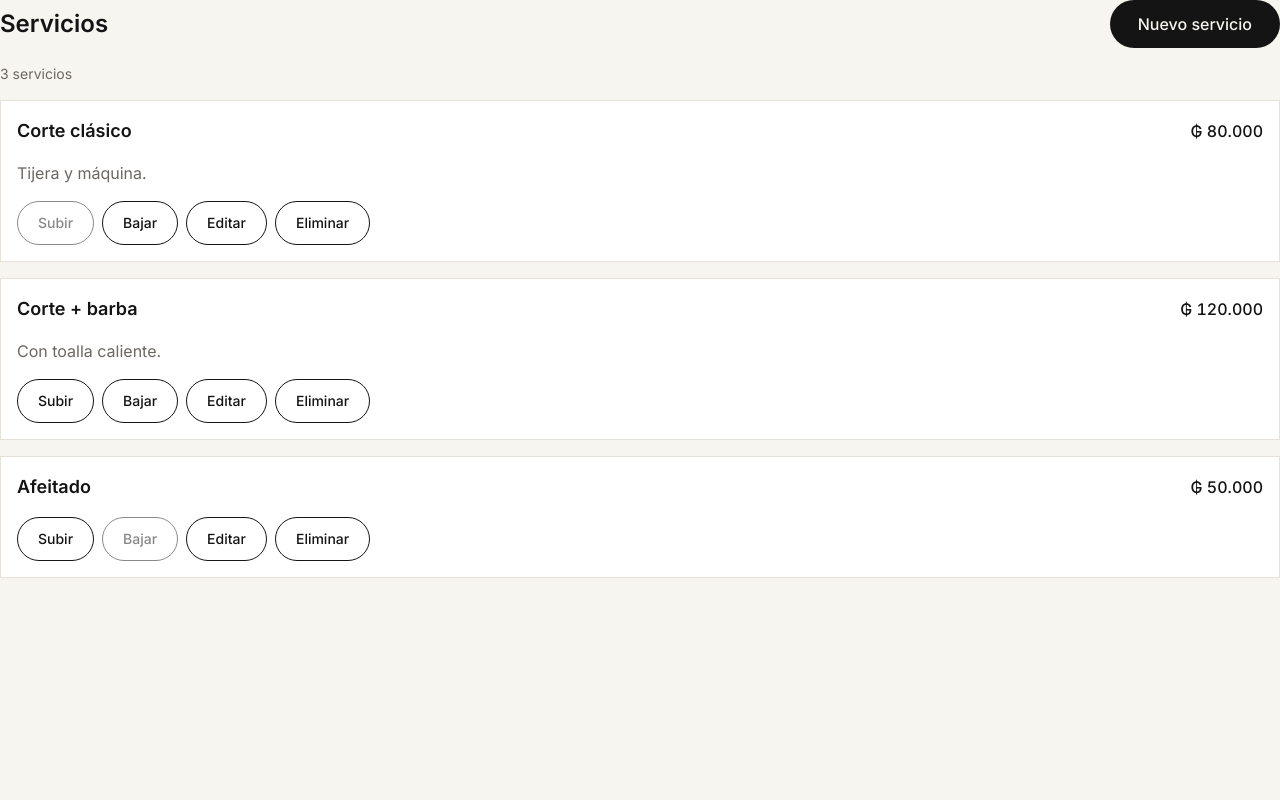
Test: región de estado › borrar escribe Servicio eliminado
Click the button with aria-label "Eliminar Afeitado".
click(323, 539)  # box x1=275 y1=517 x2=370 y2=561
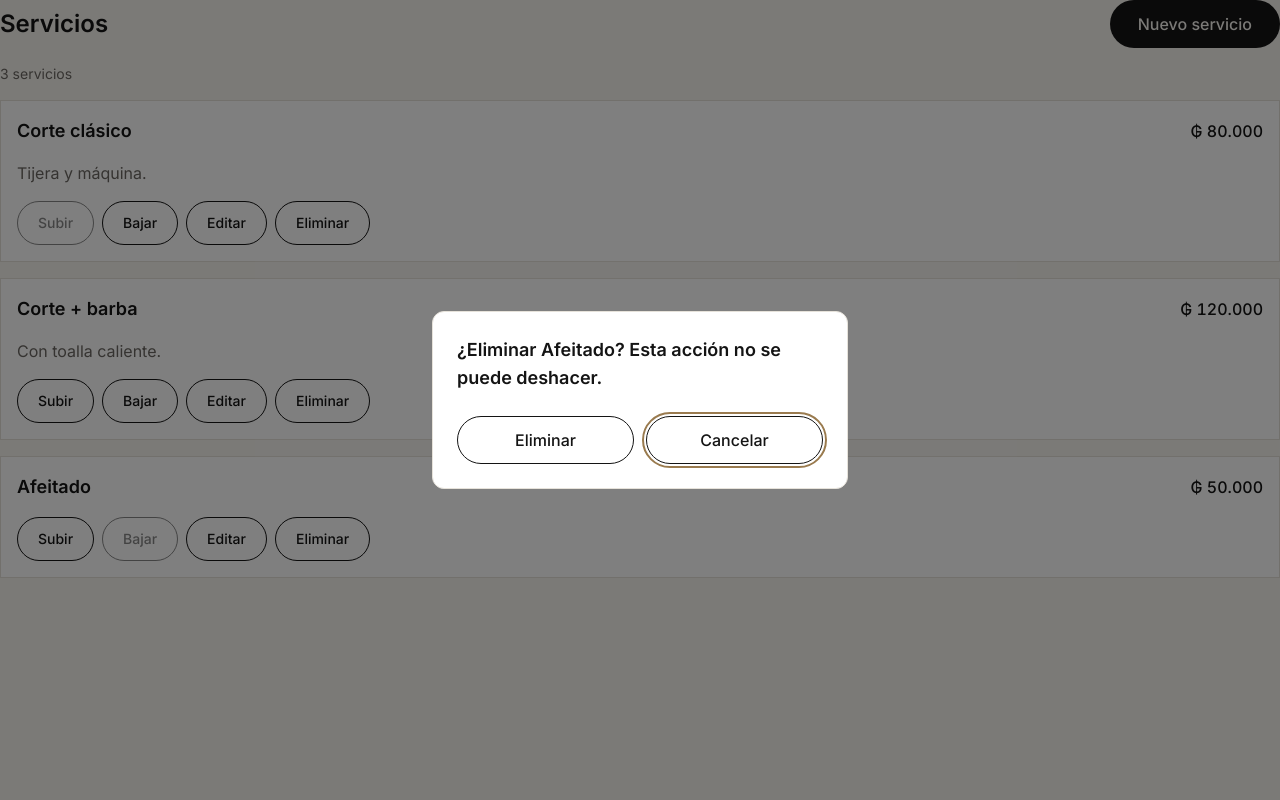
Click the button "Eliminar".
click(546, 440)  # box x1=457 y1=416 x2=634 y2=464
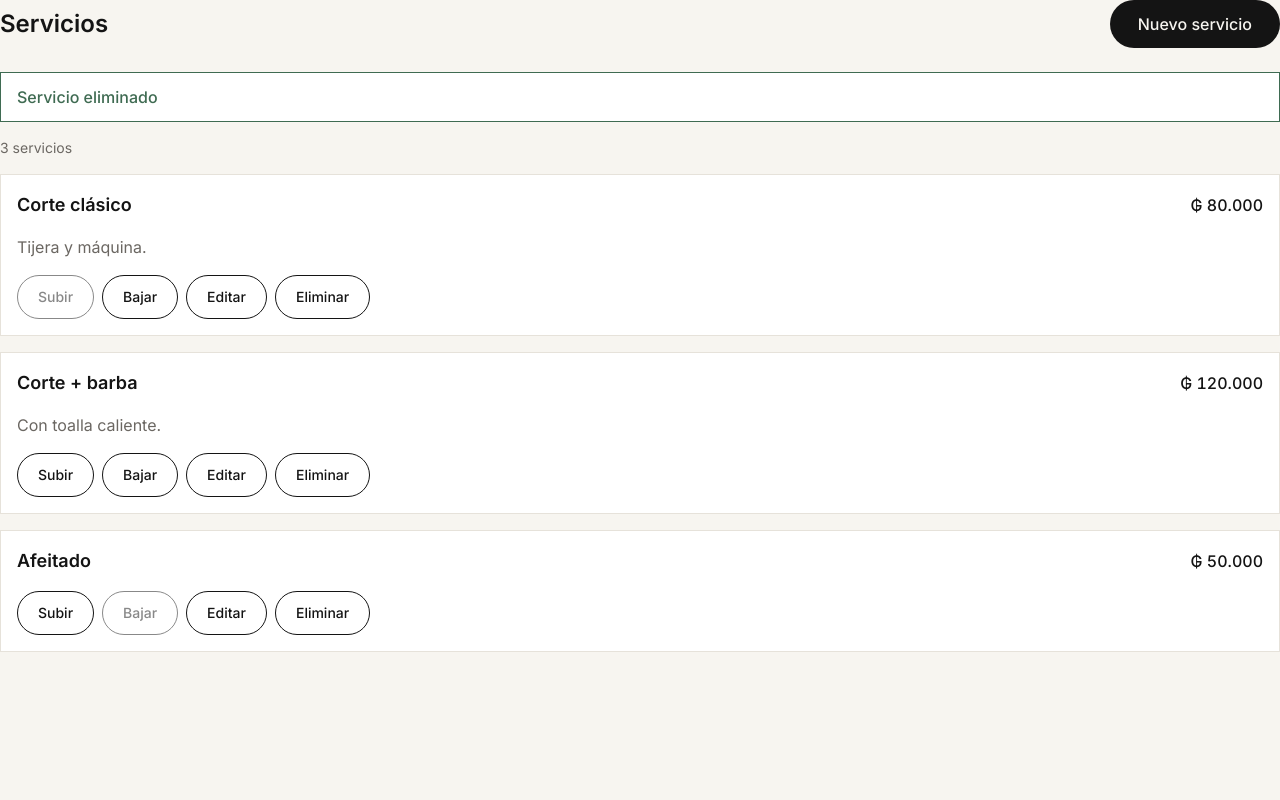
expect the message reads "Servicio eliminado": met, box x1=17 y1=87 x2=158 y2=107
